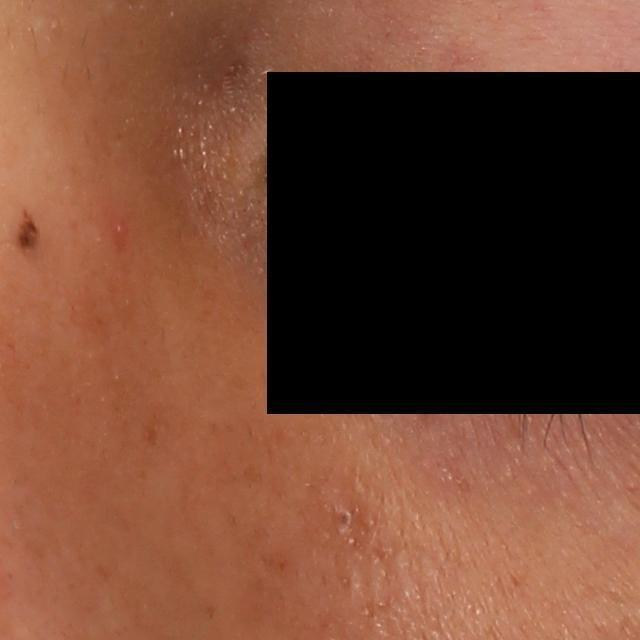comedo: (328, 502, 359, 538)
nevus: (11, 202, 41, 259)
